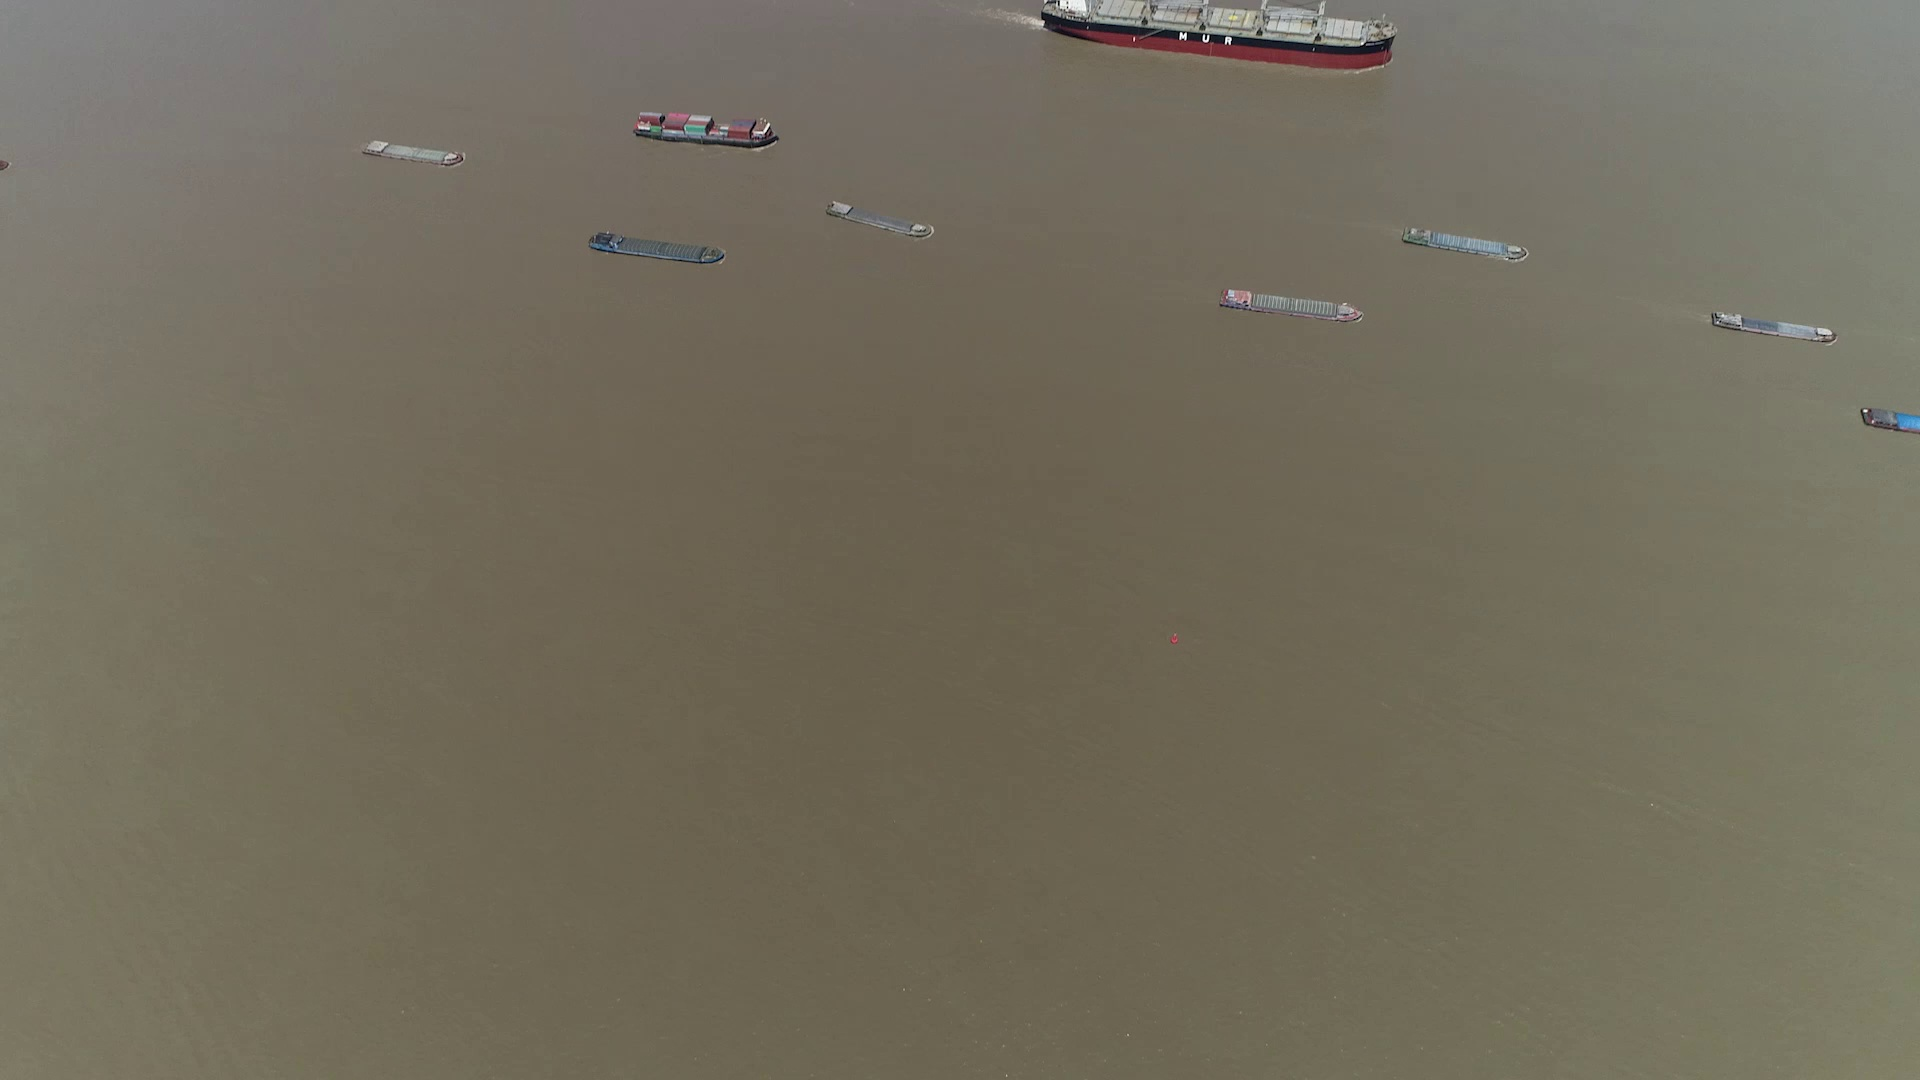ship: (1040, 0, 1396, 69), (633, 109, 779, 146), (585, 231, 727, 266), (1218, 286, 1360, 320), (824, 200, 932, 239), (1402, 227, 1524, 260), (1712, 313, 1836, 342), (363, 140, 464, 165), (1861, 406, 1917, 436)
